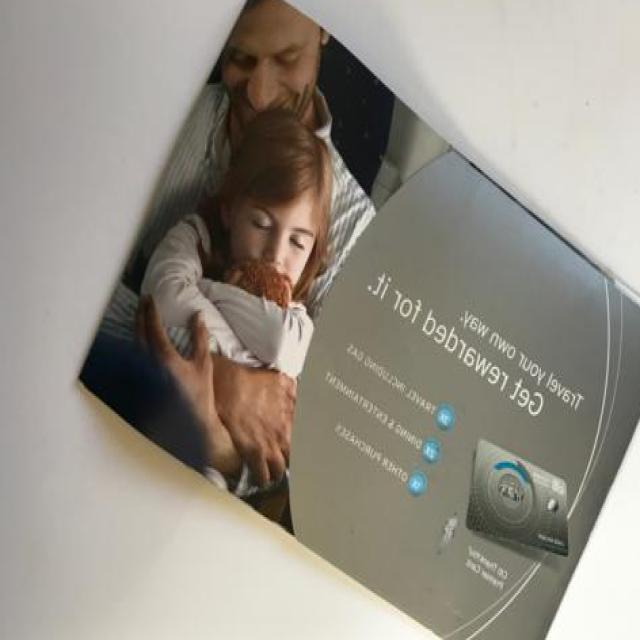kertas: (77, 0, 640, 640)
